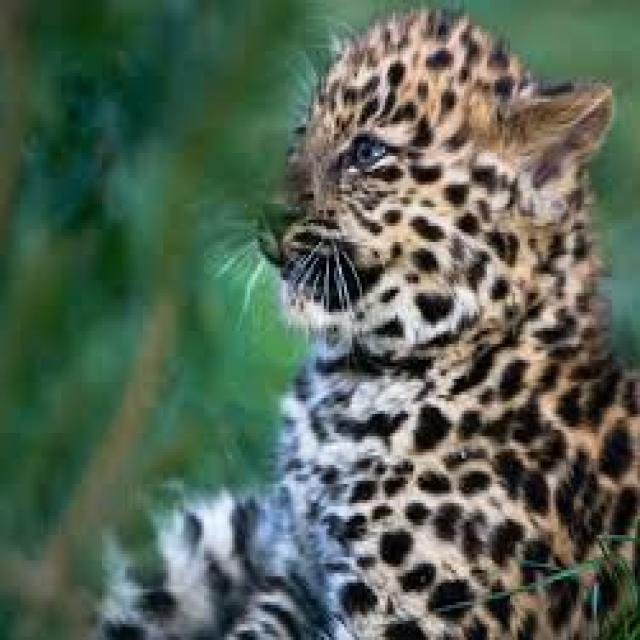Jaguar: (71, 3, 640, 640)
